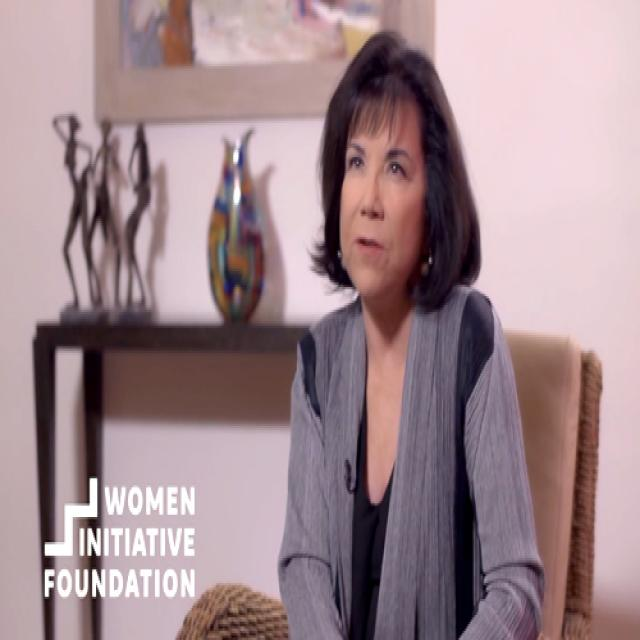human: (276, 24, 549, 640)
